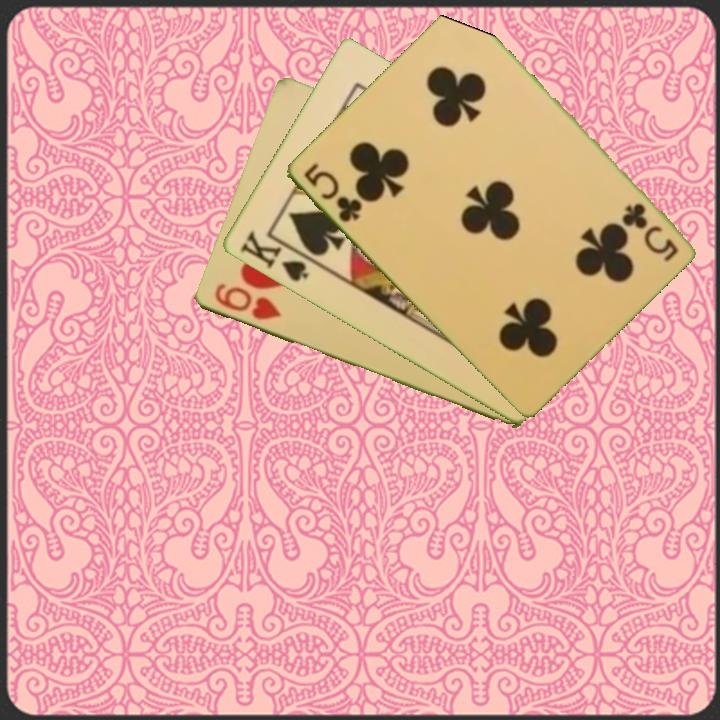5c: (299, 159, 365, 226), (619, 199, 681, 264)
6h: (210, 280, 284, 324)
Ks: (236, 227, 317, 285)
